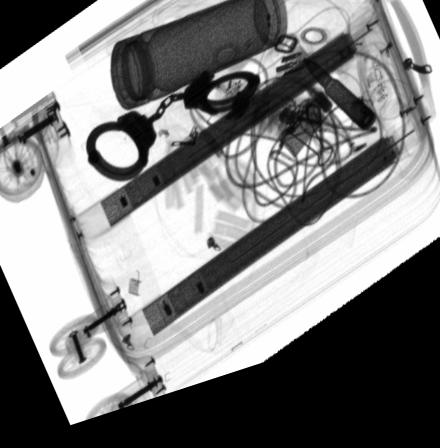Bullet: (305, 75, 377, 155)
HandCuffs: (86, 81, 260, 192)
